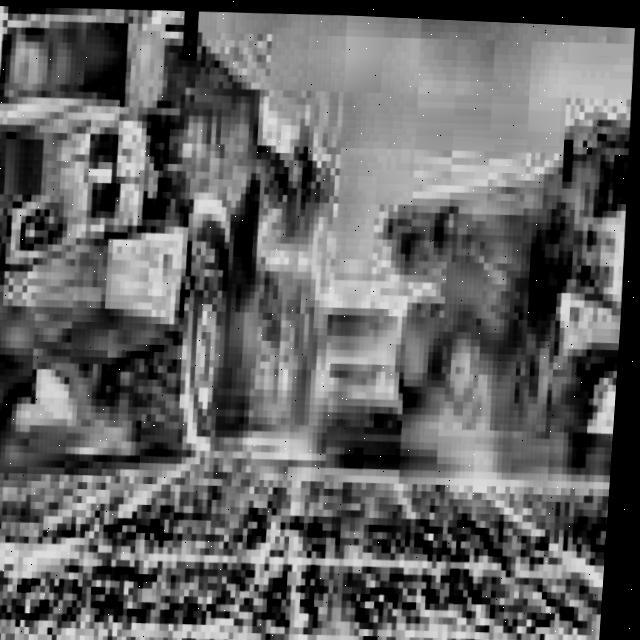dump_truck: (0, 0, 360, 526), (342, 34, 639, 556)
